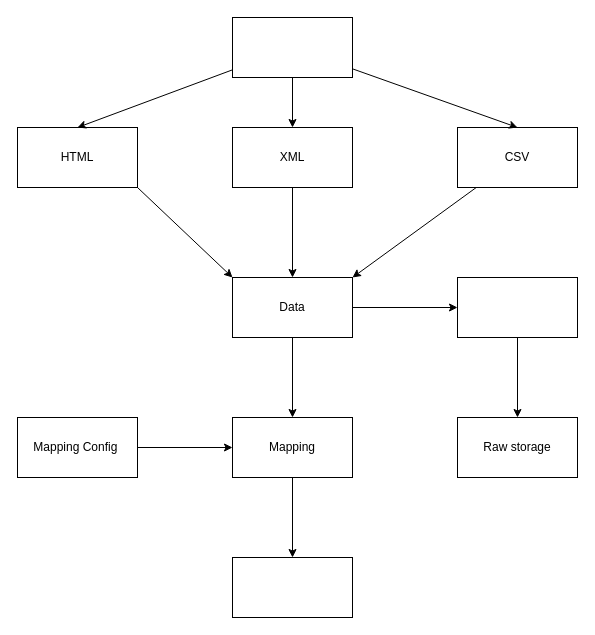
This 595x635 diagram has some shape labels left out. Here are the shapes that lost their labels. From the top down, the centre of each, then its label:
At (292,47): "Scraping Config".
At (517,307): "Pipeline".
At (292,587): "Structure storage".
